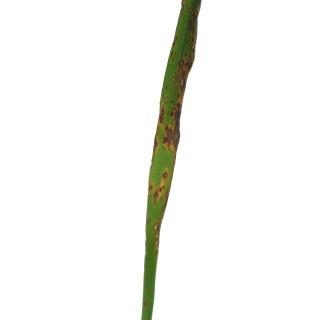Blast: (176, 52, 194, 104), (162, 105, 180, 154), (149, 182, 169, 207), (187, 11, 198, 38), (154, 221, 160, 249), (154, 134, 160, 157), (179, 3, 185, 20), (161, 168, 170, 179), (172, 36, 178, 47), (162, 97, 168, 103)
